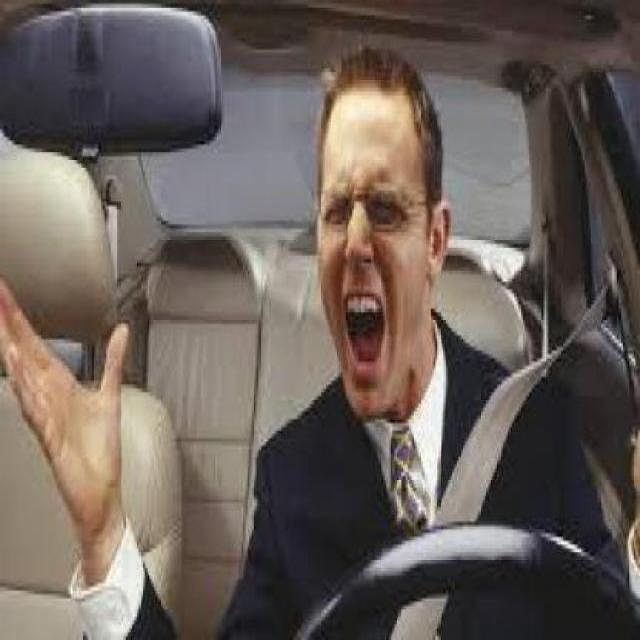seatbelt: (256, 267, 618, 587)
